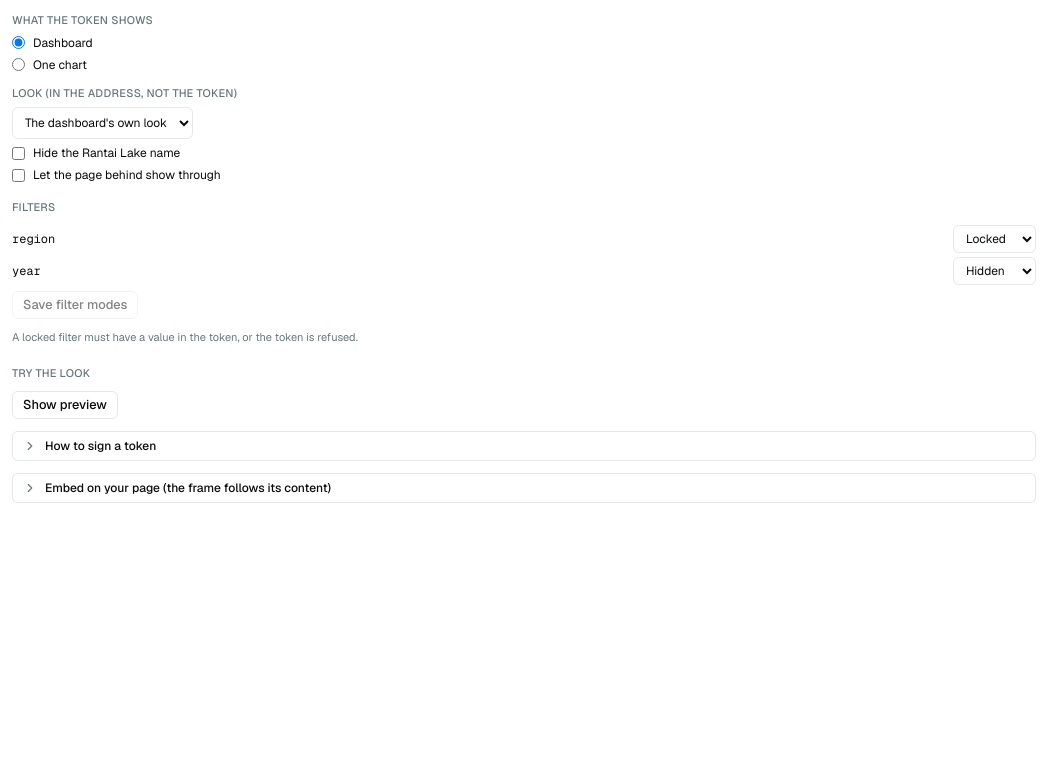
Test: EmbedSettingsPanel (BI-26 D9) › shows the server's sentence when saving is refused
Select "Locked" in the dropdown named "Mode of year". click: (994, 271)
box: [953, 257, 1036, 285]
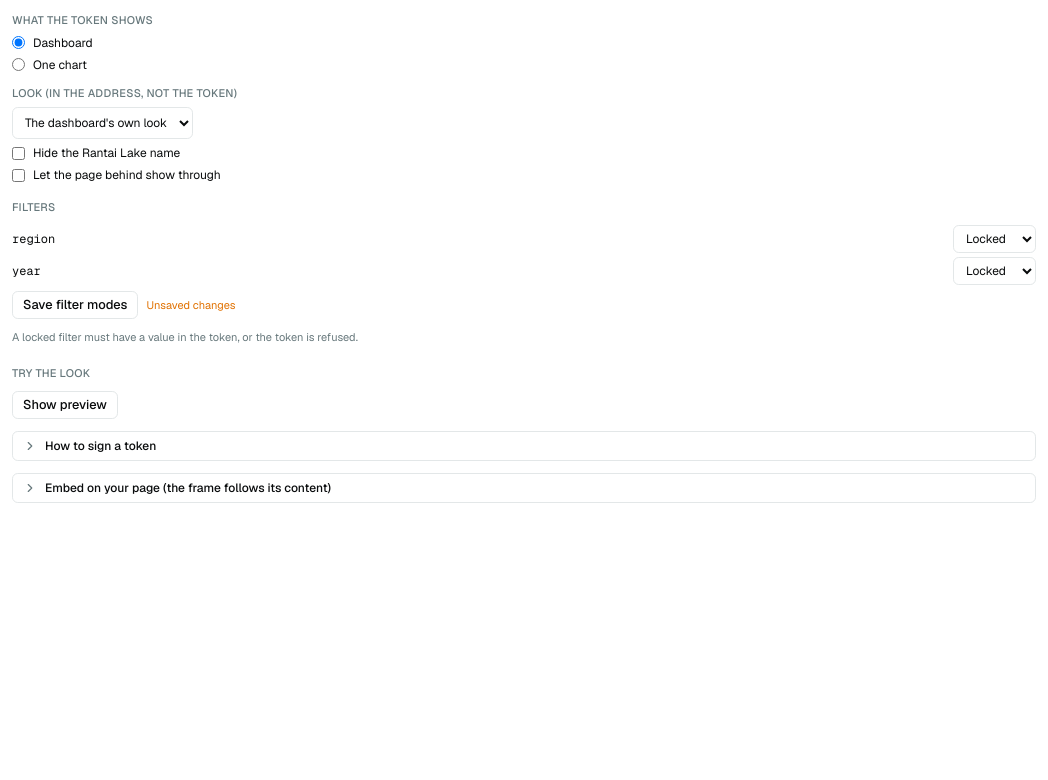
Click the button "Save filter modes". click: (75, 305)
box: [12, 291, 138, 319]
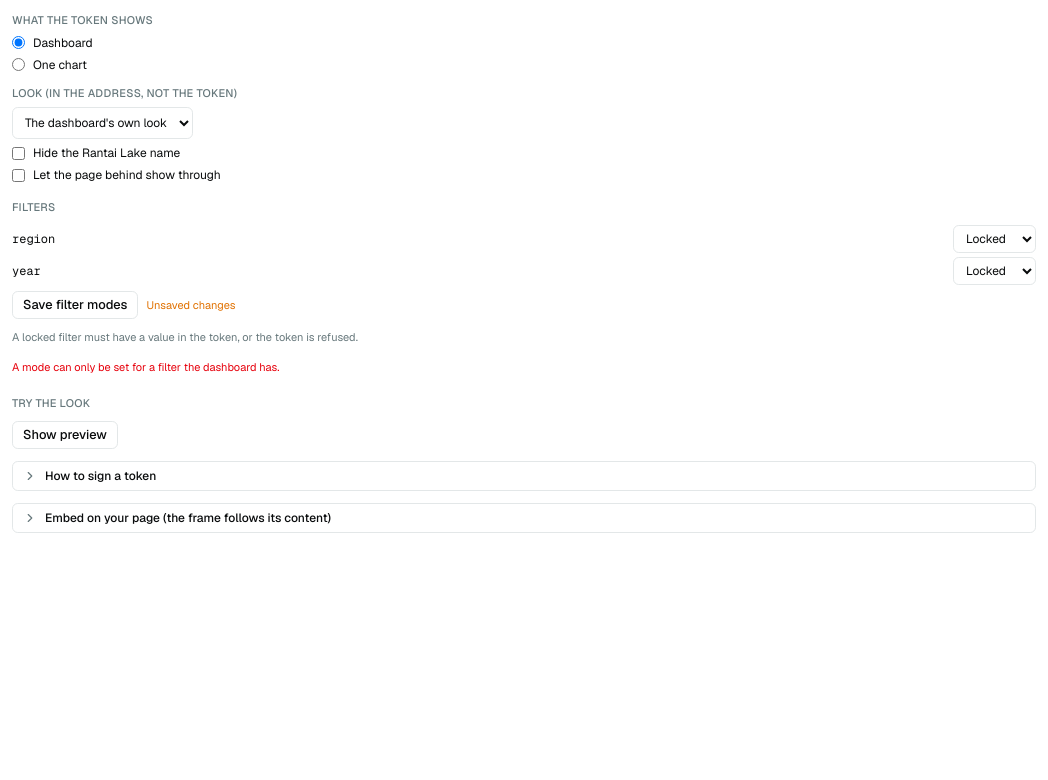
Expected: the text "A mode can only be set for a filter the dashboard has." is shown, [12, 360, 280, 374]
